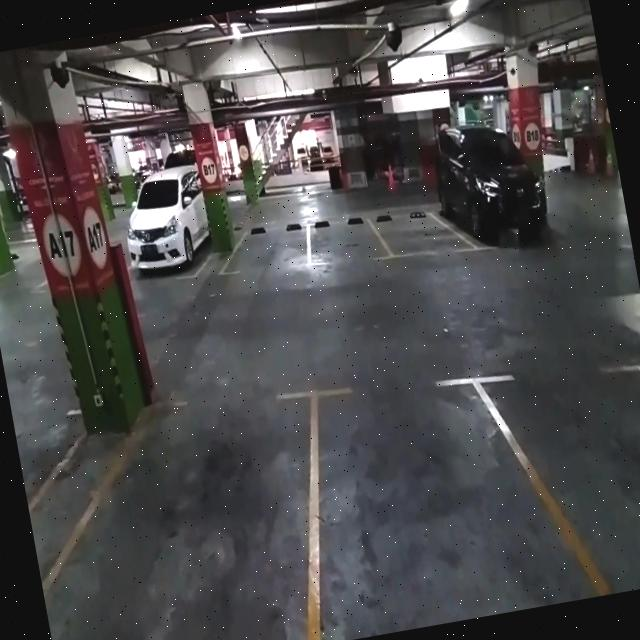empty: (277, 352, 547, 640), (63, 386, 344, 640), (222, 212, 312, 278), (376, 199, 459, 263), (305, 209, 383, 271)
occupied: (434, 126, 556, 258), (117, 171, 216, 288)
